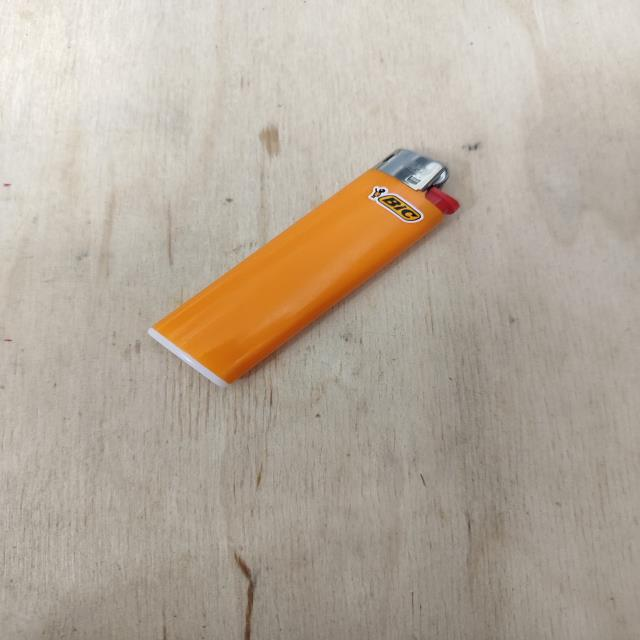lighter: (149, 150, 458, 383)
